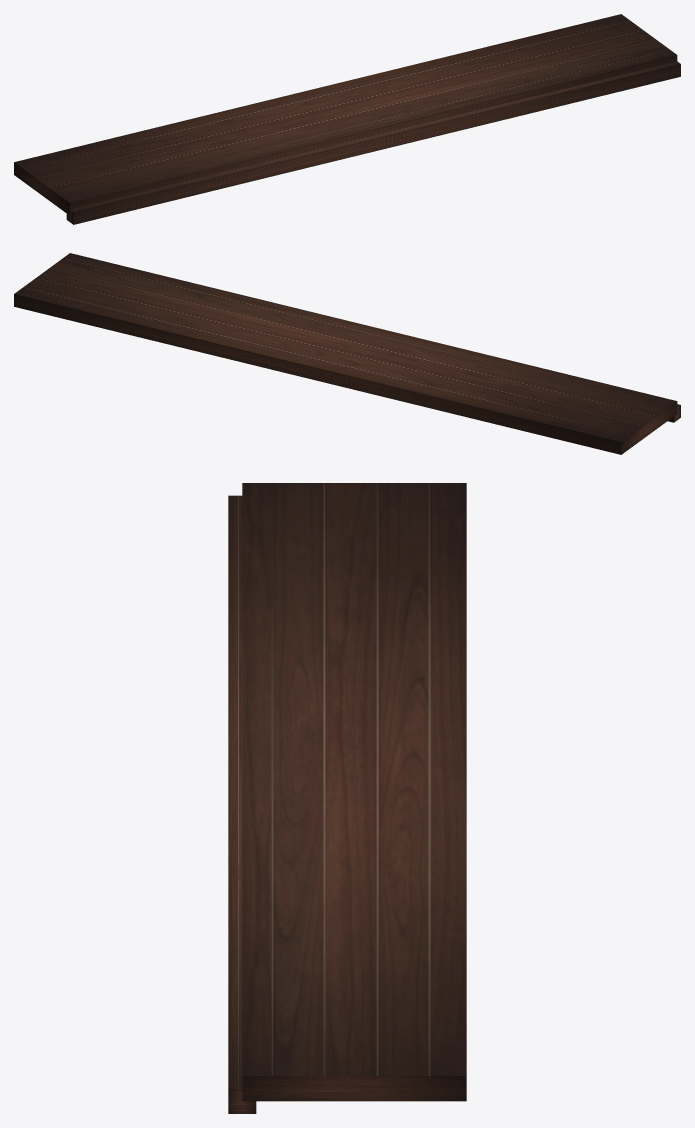
File: Door_Threshold.fbx
3 views of the same model, one above another, from view 1: azimuth 30°, elevation 25°; view 2: azimuth 150°, elevation 25°; view 3: azimuth 270°, elevation 25° (orthographic). The views are drawn at different scales.
Parts seen in each view (by area): view 1: Door_Threshold; view 2: Door_Threshold; view 3: Door_Threshold.
Boxes of the visible parts, box(x1,y1,x2,y2) form: Door_Threshold: box(14, 14, 680, 224); Door_Threshold: box(14, 253, 680, 454); Door_Threshold: box(228, 483, 466, 1113).
Bounding box in the file's own units: 1 × 0.03 × 0.17.
